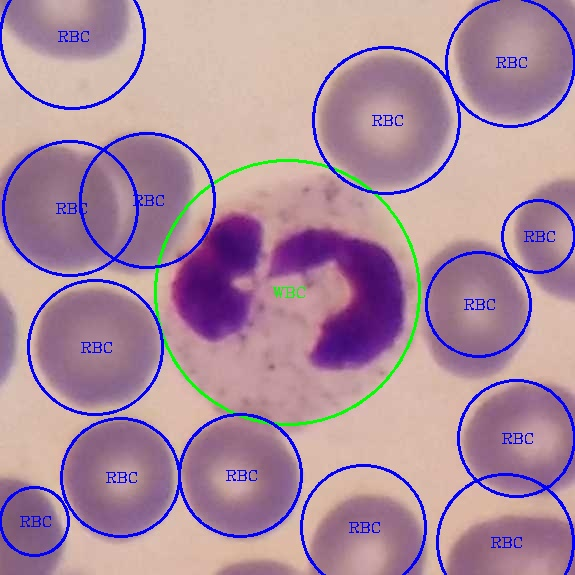RBC: (313, 47, 459, 194), (178, 398, 307, 544), (30, 280, 163, 412), (86, 125, 200, 276), (419, 234, 534, 382), (1, 138, 122, 277), (56, 413, 178, 549), (452, 1, 574, 131), (457, 377, 573, 505), (306, 489, 431, 573), (1, 0, 145, 70), (436, 509, 573, 573), (510, 172, 573, 307)
WBC: (161, 177, 417, 429)
